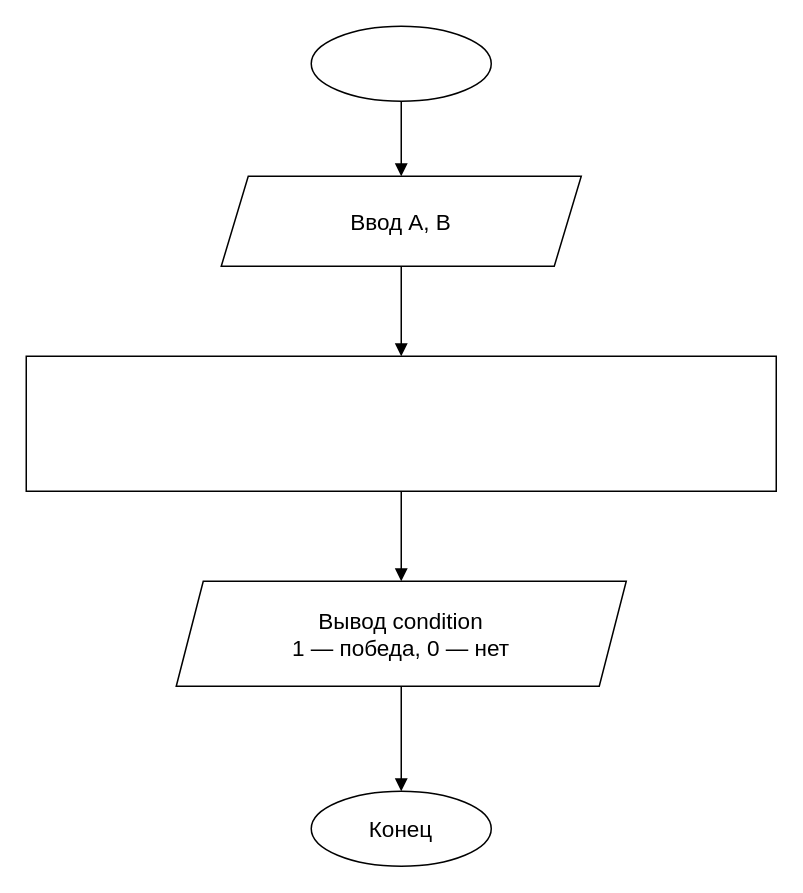
Image size: 803x893. Some labels were removed from this diagram. The box of each missing label's shape, as (x1, y1, x2, y2) in pixels:
condition = (A % 2 == 0 && B % 2 != 0) || (A % 2 != 0 && B % 2 == 0): (25, 355, 776, 491)
Начало: (310, 25, 491, 101)
